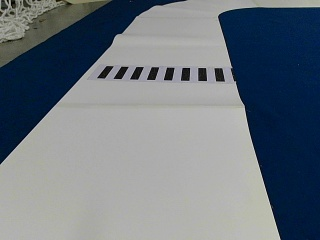crosswalk: (97, 64, 224, 82)
